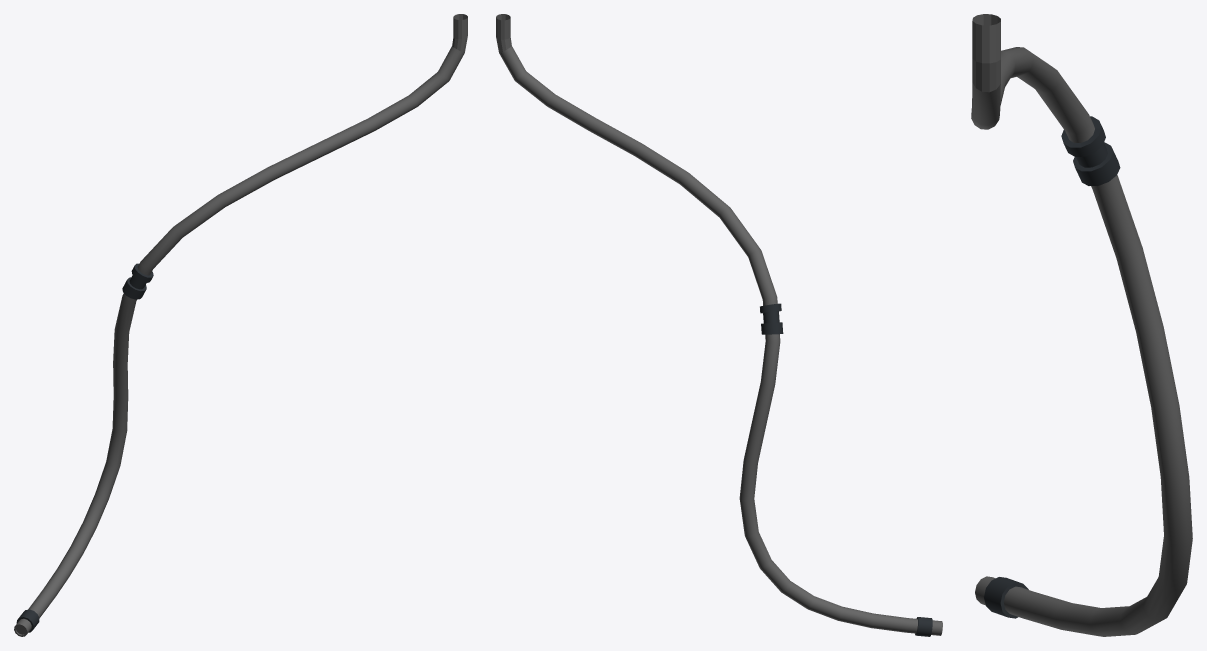
The model's file is SM_pipe_connected.fbx.
3 renders of one model, left to right at view 1: azimuth 30°, elevation 25°; view 2: azimuth 150°, elevation 25°; view 3: azimuth 270°, elevation 25°, orthographic. The views are drawn at different scales.
Parts seen in each view (by area): view 1: pipe_connected; view 2: pipe_connected; view 3: pipe_connected.
Boxes of the visible parts, x1,y1,x2,y2 form: pipe_connected: (14, 14, 467, 636); pipe_connected: (496, 14, 942, 636); pipe_connected: (971, 14, 1192, 636).
Size of the model in its own units: 658 by 717 by 143.
